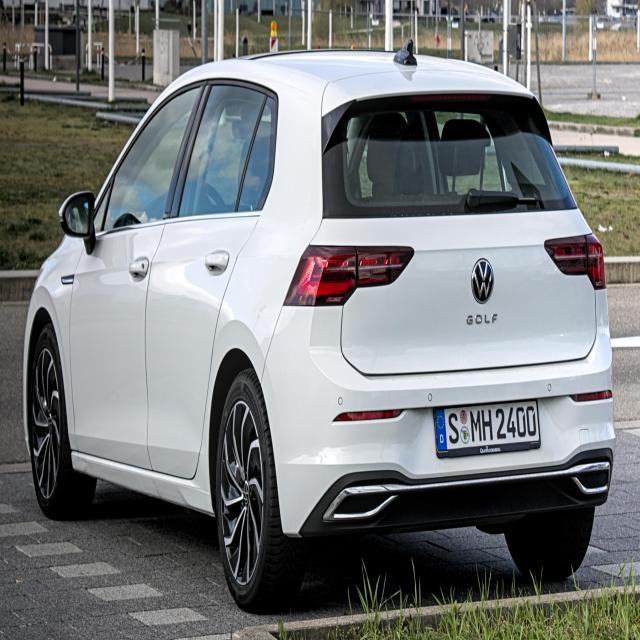Hatchback: (23, 40, 616, 611)
